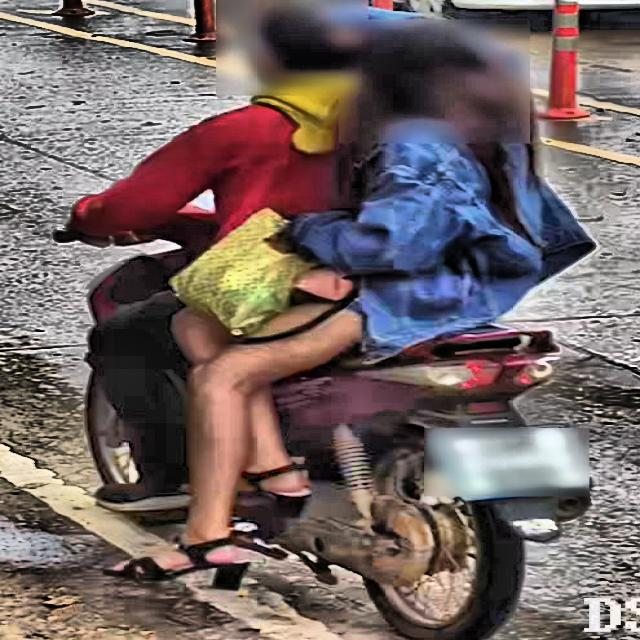motorcycle: (67, 180, 594, 640)
